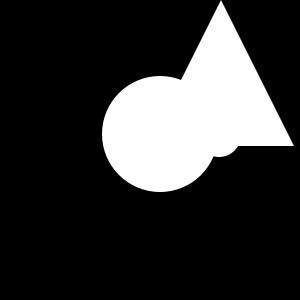rectangle: (102, 76, 218, 192), (197, 113, 241, 157)
triangle: (148, 0, 294, 146)
